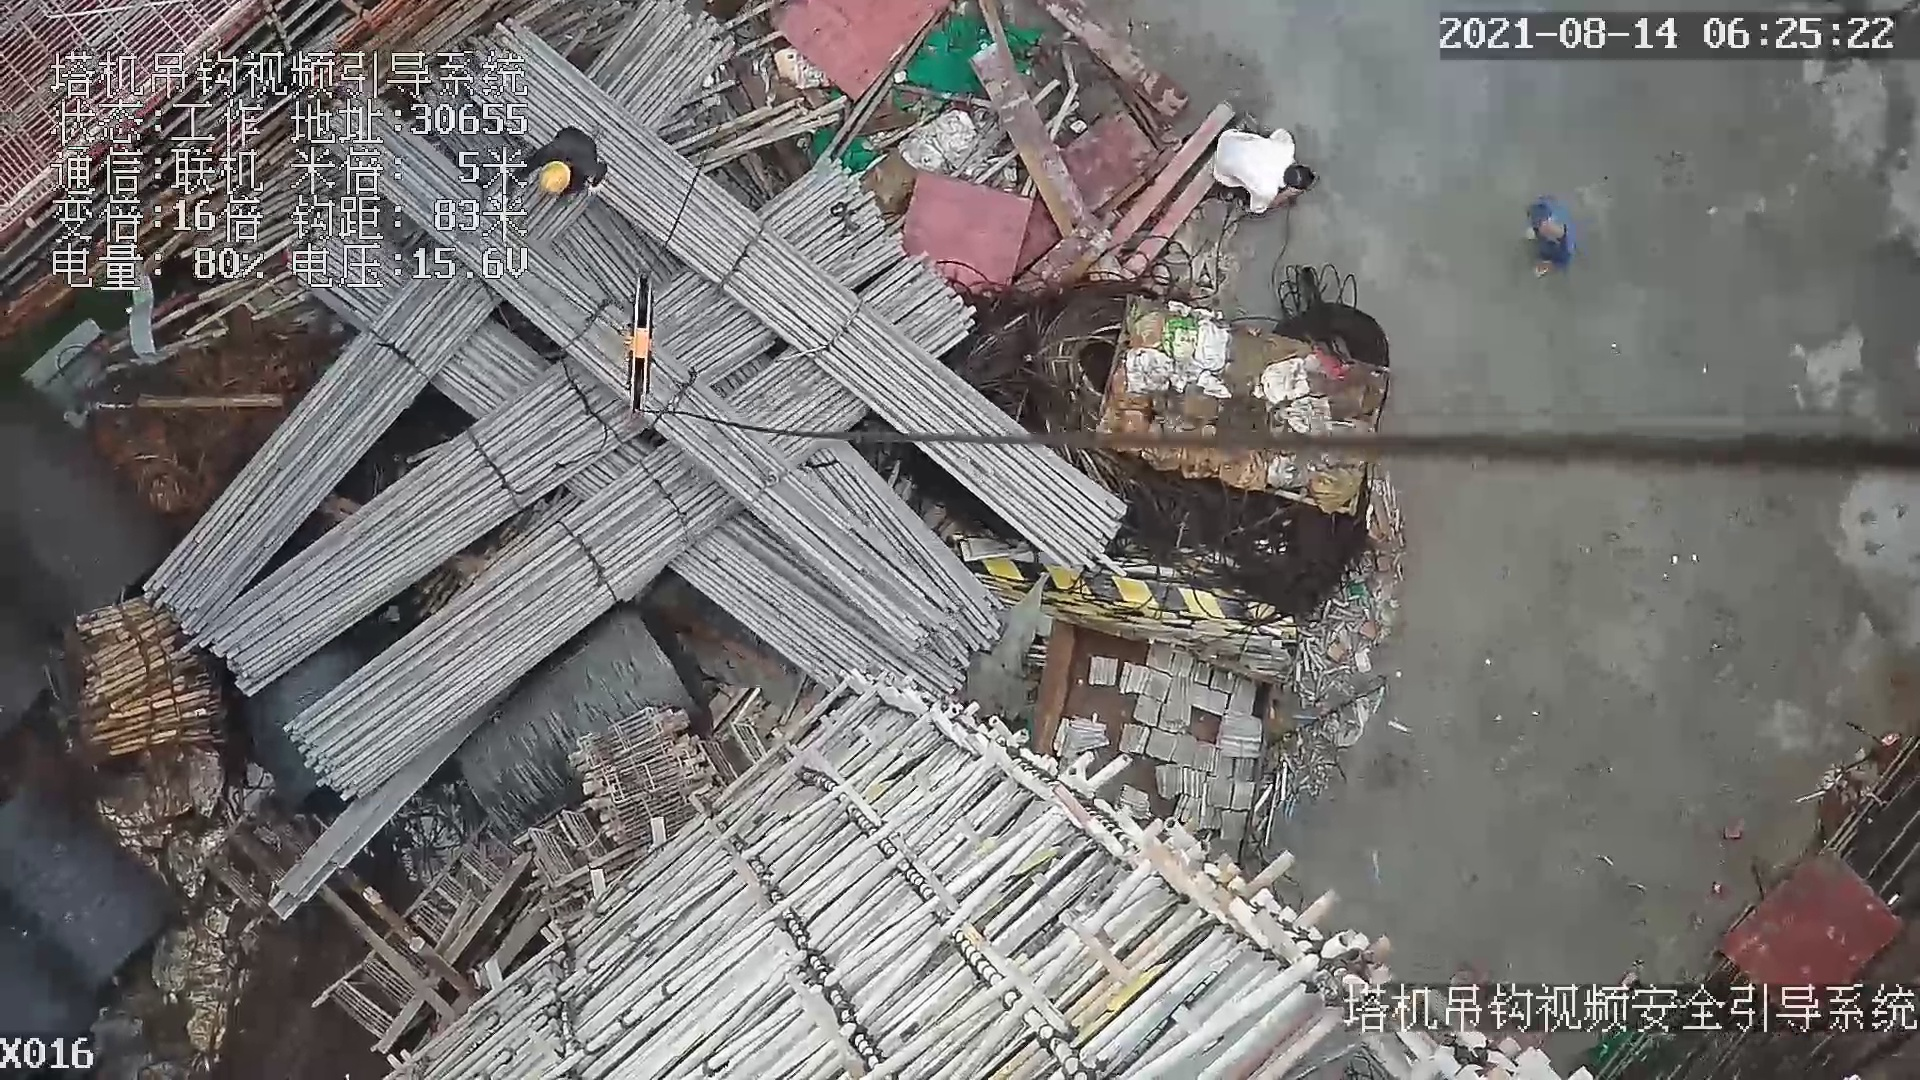helmet: (538, 159, 570, 198)
hook: (622, 271, 669, 423)
person: (1208, 121, 1315, 214), (515, 121, 614, 203), (1533, 199, 1582, 272)
